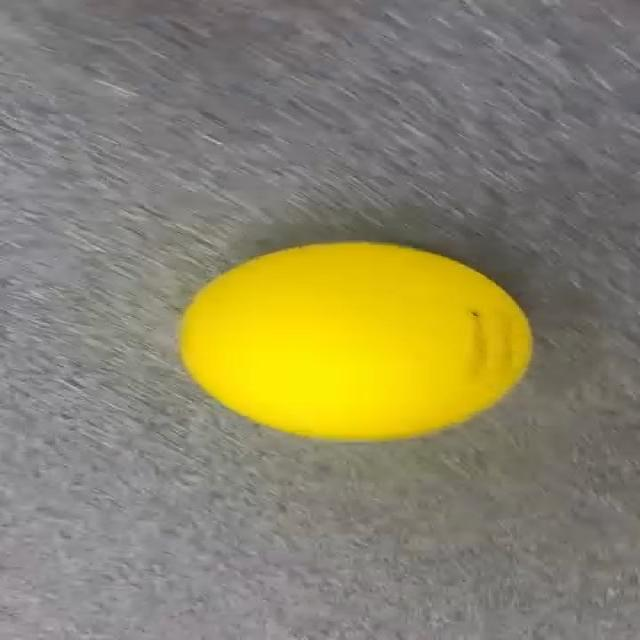Fuels: (183, 244, 528, 440)
